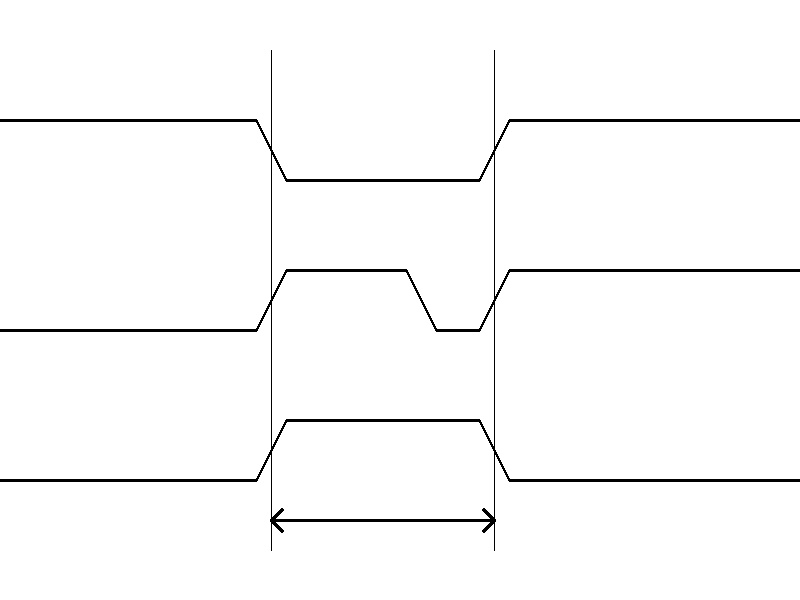double_arrow: (271, 505, 494, 535)
